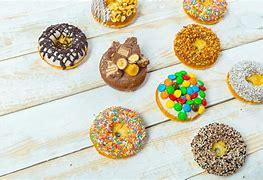donut: (183, 121, 252, 177), (89, 106, 148, 161), (170, 20, 225, 74), (36, 20, 93, 72), (156, 70, 208, 125), (100, 38, 150, 92), (223, 55, 262, 108), (88, 0, 142, 29), (177, 0, 234, 26)
